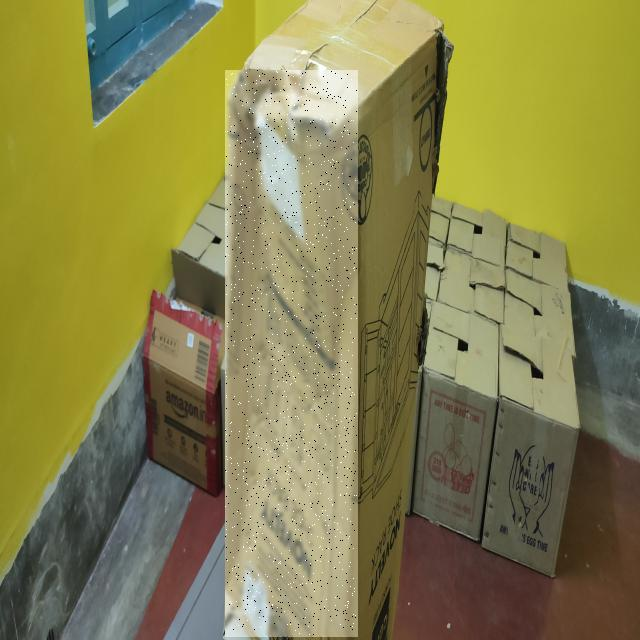squeeze: (225, 71, 357, 635)
